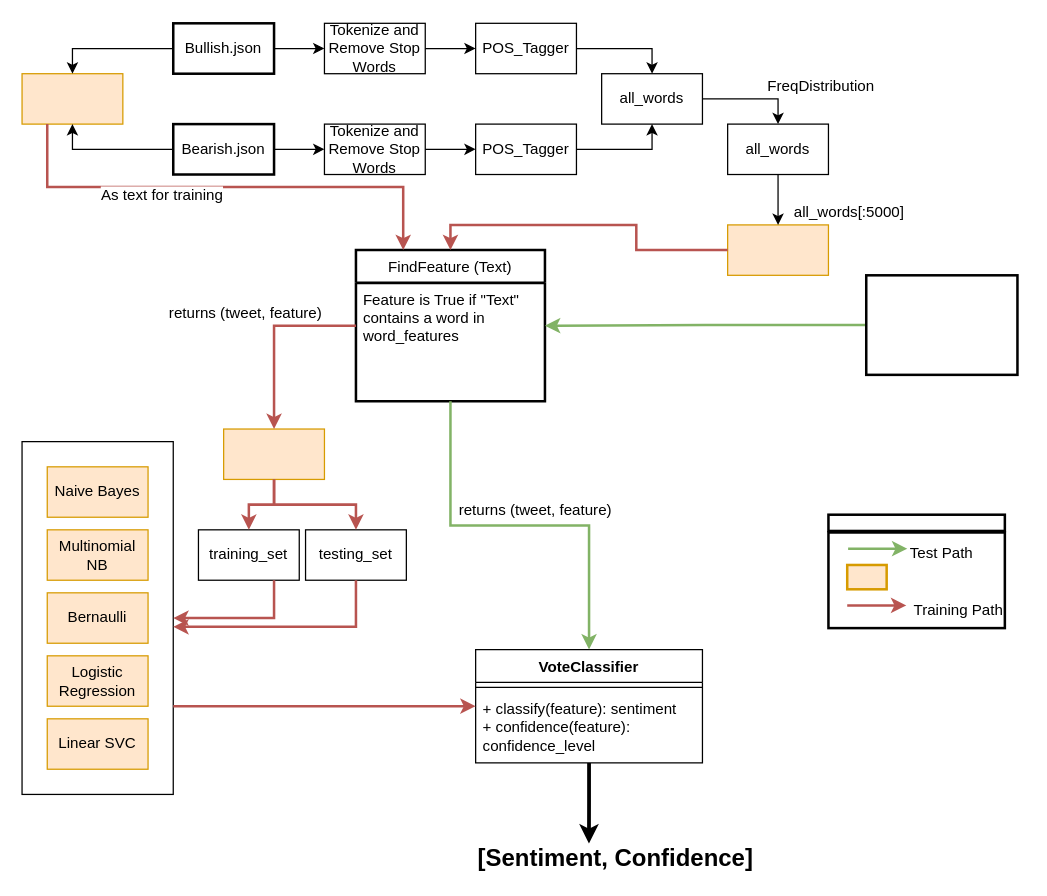
This 1047x896 diagram has some shape labels left out. Each missing label, with the centre of its shape:
all_tweets: (x=72, y=98)
feature_set: (x=273, y=453)
Legend: (x=916, y=522)
pickle: (x=866, y=576)
Test.json: (x=941, y=324)
Word_features: (x=777, y=249)
